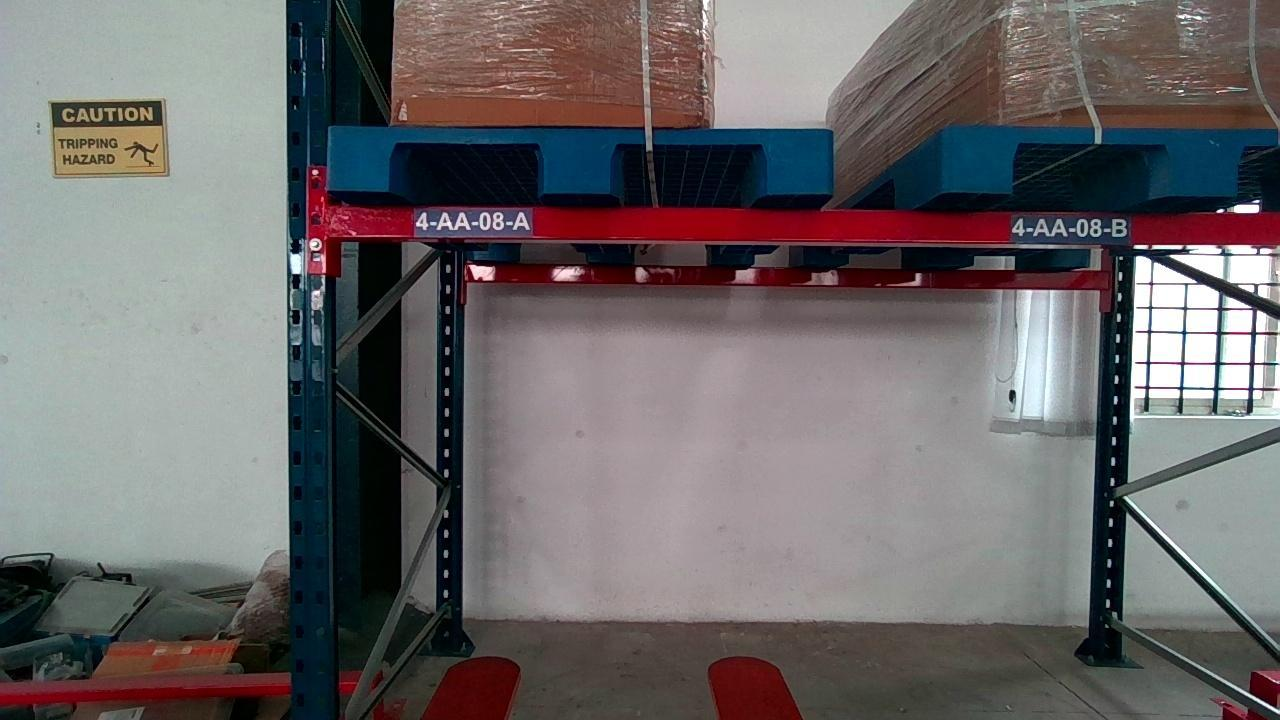h_rack: (328, 205, 1276, 246)
small_pallet: (329, 126, 833, 199), (944, 125, 1280, 196)
